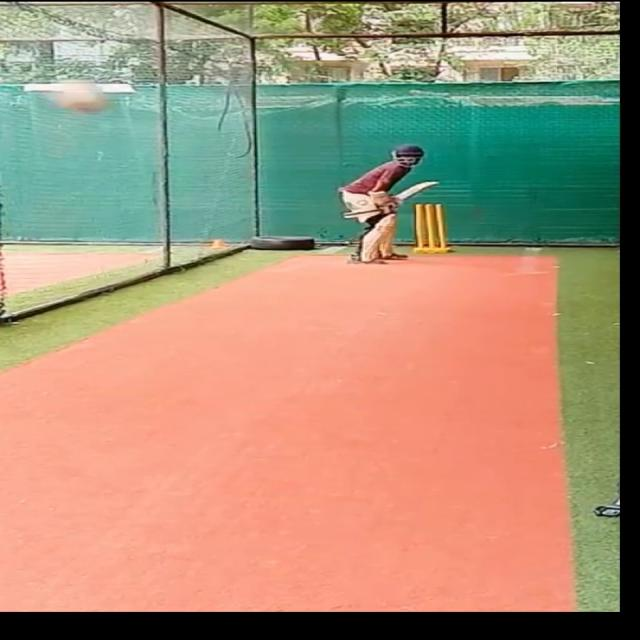ball: (56, 79, 112, 114)
stump: (412, 202, 452, 253)
